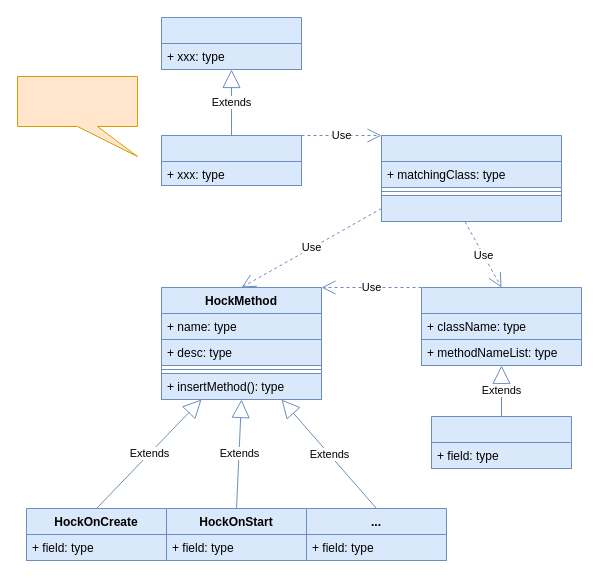
Image size: 599x581. Some labels were removed from this diagram. The shapes that lost their labels are listed below. From the top down, each one's box as (x1, y1, x2, y2) in pixels, then its label:
(160, 16, 302, 70): ClassVisitor
(16, 76, 138, 156): 核心类，用于匹配对应类和方法
(160, 134, 302, 186): PathStatVisitor
(380, 134, 562, 222): HockClassManger
(380, 194, 562, 222): + matchingMethod(type): type
(420, 286, 582, 366): HockClass
(430, 416, 572, 468): HockFragment
